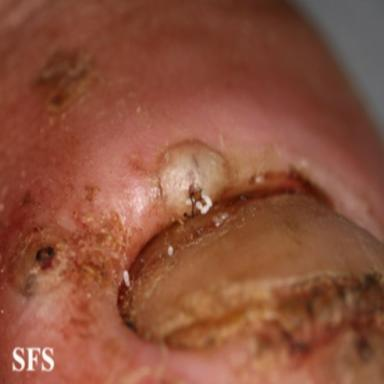Tungiasis: (157, 141, 228, 219), (9, 222, 75, 297)
